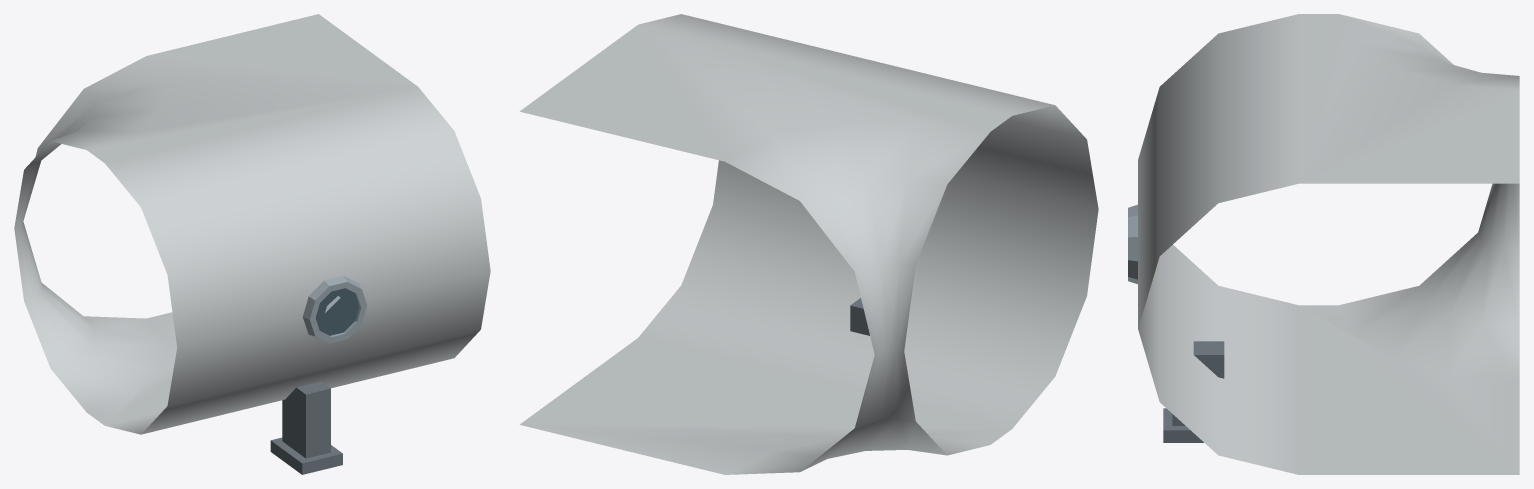
The model's file is pressure_029.glb.
3 renders of one model, left to right at view 1: azimuth 30°, elevation 25°; view 2: azimuth 150°, elevation 25°; view 3: azimuth 270°, elevation 25°, orthographic. The views are drawn at different scales.
Visible parts, largest first — view 1: Pressure_Shell.052, Support.140, Porthole_Rim.077, Gas_Window.077, Window_Glass.077, Footplate.140; view 2: Pressure_Shell.052; view 3: Pressure_Shell.052, Support.140, Porthole_Rim.077, Footplate.140.
Boxes of the visible parts, box(x1,y1,x2,y2) form: Pressure_Shell.052: box(14, 14, 490, 434); Support.140: box(282, 381, 330, 458); Porthole_Rim.077: box(303, 276, 367, 343); Gas_Window.077: box(315, 288, 359, 335); Window_Glass.077: box(316, 289, 360, 336); Footplate.140: box(270, 437, 342, 474); Pressure_Shell.052: box(519, 14, 1098, 474); Pressure_Shell.052: box(1138, 14, 1519, 474); Support.140: box(1172, 341, 1224, 425); Porthole_Rim.077: box(1128, 204, 1137, 284); Footplate.140: box(1163, 408, 1203, 442).
Size of the model in its own units: 2 by 1.83 by 1.95.
